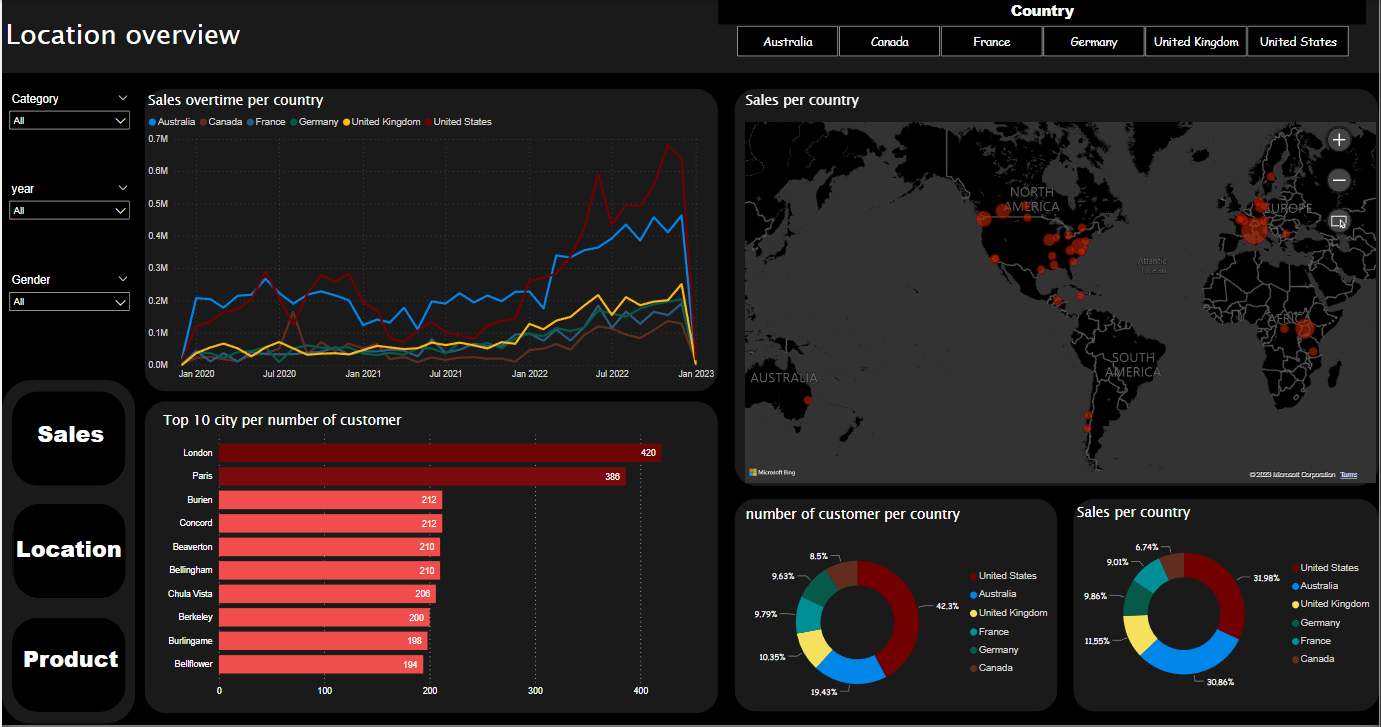

What the dashboard file says about the page in this screenshot:
{"tool":"powerbi","page":{"name":"location","canvas":[1900,1000],"ordinal":1},"visuals":[{"type":"shape","box":[0,525.2,184.3,474.6],"z":0},{"type":"shape","box":[16.3,695.6,154.9,130.5],"z":1000},{"type":"shape","box":[13,851.3,156.6,130.5],"z":2000},{"type":"shape","box":[13,539.8,156.6,130.5],"z":3000},{"type":"actionButton","title":"Sales","box":[17.9,575.7,154.9,58.7],"z":4000},{"type":"actionButton","title":"Location","box":[13,733.9,154.9,58.7],"z":5000},{"type":"actionButton","title":"Product","box":[17.9,887.2,154.9,58.7],"z":6000},{"type":"shape","box":[0,0,1900,101.1],"z":7000},{"type":"shape","box":[1011.2,122.3,888.8,548],"z":8000},{"type":"map","fields":{"Category":["Dimlocation.state"],"Size":["Sum(Factorder.SalesAmount)"]},"box":[1020.9,163.1,879.1,507.2],"z":9000},{"type":"shape","box":[197.3,554.5,791,430.6],"z":10000},{"type":"barChart","fields":{"Category":["Dimlocation.City"],"Y":["Count(Factorder.CustomerID)"]},"box":[216.9,587.1,751.8,383.3],"z":11000},{"type":"shape","box":[1011.2,688.2,445.2,293.6],"z":12000},{"type":"donutChart","fields":{"Category":["Dimlocation.Region"],"Y":["Count(Factorder.CustomerID)"]},"box":[1020.9,733.9,435.5,247.9],"z":13000},{"type":"shape","box":[1477.6,688.2,422.4,293.6],"z":14000},{"type":"donutChart","fields":{"Category":["Dimlocation.Region"],"Y":["Sum(Factorder.SalesAmount)"]},"box":[1477.6,722.5,422.4,247.9],"z":15000},{"type":"shape","box":[197.3,122.3,791,417.5],"z":16000},{"type":"lineChart","fields":{"Series":["Dimlocation.Region"],"Y":["Sum(Factorder.SalesAmount)"],"Category":["DimDate.orderDate.Variation.Date Hierarchy.Year","DimDate.orderDate.Variation.Date Hierarchy.Quarter","DimDate.orderDate.Variation.Date Hierarchy.Month"]},"box":[197.3,148.4,791,383.3],"z":17000},{"type":"slicer","title":"Country","fields":{"Values":["Dimlocation.Region"]},"box":[988.3,0,893.7,84.8],"z":18000},{"type":"textbox","box":[0,14.7,484.4,70.1],"z":19000},{"type":"slicer","fields":{"Values":["DimProduct.Category"]},"box":[0,122.3,185.9,89.7],"z":20000},{"type":"slicer","fields":{"Values":["DimDate.year"]},"box":[0,247.1,185.9,89.7],"z":21000},{"type":"slicer","fields":{"Values":["Dimcastomer.Gender"]},"box":[0,371.8,185.9,89.7],"z":22000},{"type":"textbox","box":[197.3,119.1,484.4,44],"z":23000},{"type":"textbox","box":[216.9,561,484.4,44],"z":24000},{"type":"textbox","box":[1477.6,688.2,422.4,44],"z":25000},{"type":"textbox","box":[1020.9,689.9,422.4,44],"z":26000},{"type":"textbox","box":[1020.9,119.1,422.4,44],"z":27000}]}

Visuals, with their boxes in screenshot pixels (x1, y1, x2, y2), scaled from the page's 1900x1000 canvas onto the 1381x727 screenshot:
shape: crop(0, 382, 134, 726)
shape: crop(12, 506, 124, 601)
shape: crop(9, 619, 123, 714)
shape: crop(9, 392, 123, 487)
"Sales" actionButton: crop(13, 419, 126, 461)
"Location" actionButton: crop(9, 534, 122, 576)
"Product" actionButton: crop(13, 645, 126, 688)
shape: crop(0, 0, 1380, 73)
shape: crop(735, 89, 1380, 487)
map - Dimlocation.state x Sum(Factorder.SalesAmount): crop(742, 119, 1380, 487)
shape: crop(143, 403, 718, 716)
barChart - Dimlocation.City x Count(Factorder.CustomerID): crop(158, 427, 704, 705)
shape: crop(735, 500, 1059, 714)
donutChart - Dimlocation.Region x Count(Factorder.CustomerID): crop(742, 534, 1059, 714)
shape: crop(1074, 500, 1380, 714)
donutChart - Dimlocation.Region x Sum(Factorder.SalesAmount): crop(1074, 525, 1380, 705)
shape: crop(143, 89, 718, 392)
lineChart - Dimlocation.Region x Sum(Factorder.SalesAmount): crop(143, 108, 718, 387)
"Country" slicer: crop(718, 0, 1368, 62)
textbox: crop(0, 11, 352, 62)
slicer - DimProduct.Category: crop(0, 89, 135, 154)
slicer - DimDate.year: crop(0, 180, 135, 245)
slicer - Dimcastomer.Gender: crop(0, 270, 135, 336)
textbox: crop(143, 87, 495, 119)
textbox: crop(158, 408, 510, 440)
textbox: crop(1074, 500, 1380, 532)
textbox: crop(742, 502, 1049, 534)
textbox: crop(742, 87, 1049, 119)
